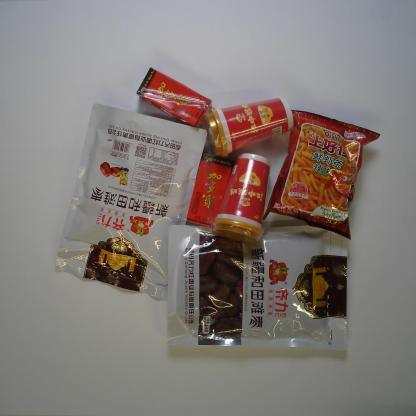Dried Food: (52, 100, 211, 302), (167, 222, 351, 362)
Drink: (133, 66, 216, 127), (182, 153, 235, 232)
Instant Drink: (204, 94, 294, 160), (214, 150, 273, 244)
Puffed Food: (261, 108, 382, 240)
